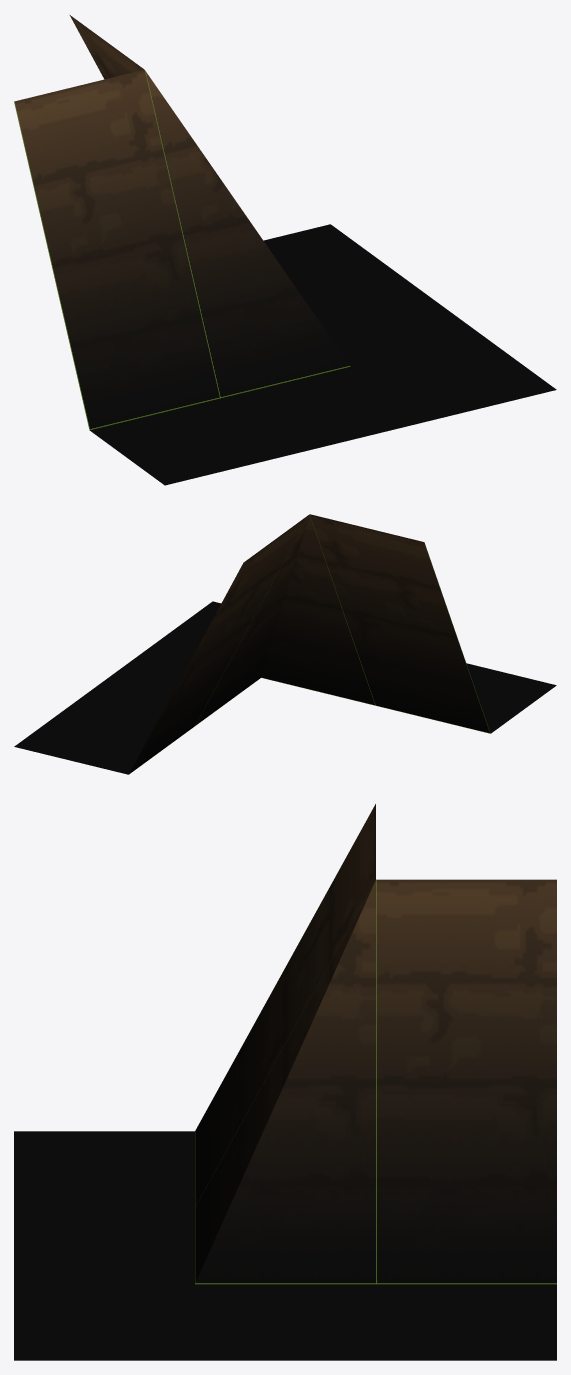
File: wallMiniBottom_cornerOut.FBX
3 renders of one model, top to bottom at view 1: azimuth 30°, elevation 25°; view 2: azimuth 150°, elevation 25°; view 3: azimuth 270°, elevation 25°, orthographic. The views are drawn at different scales.
Parts seen in each view (by area): view 1: wallMiniBottom_cornerOut; view 2: wallMiniBottom_cornerOut; view 3: wallMiniBottom_cornerOut.
Boxes of the visible parts, box(x1,y1,x2,y2) form: wallMiniBottom_cornerOut: box(14, 15, 556, 485); wallMiniBottom_cornerOut: box(14, 514, 556, 774); wallMiniBottom_cornerOut: box(14, 804, 556, 1360).
Bounding box in the file's own units: 6 × 4 × 6.
